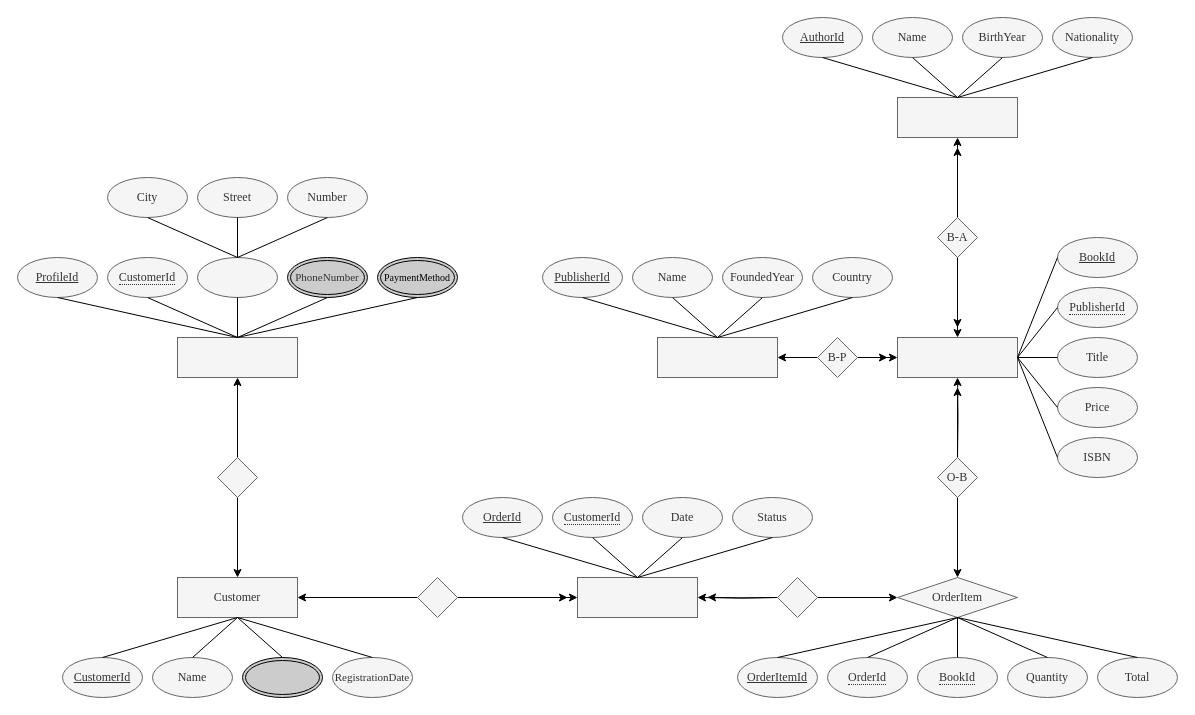
Some shapes in this 1195 by 715 pixel diagram are drawn without their labels. Here are the shapes that lost their labels. From the top down, the centre of each, then its label:
(x=957, y=117): Author
(x=237, y=277): Address
(x=237, y=357): Profile
(x=717, y=357): Publisher
(x=957, y=357): Book
(x=237, y=477): P-C
(x=437, y=597): C-O
(x=637, y=597): Order
(x=797, y=597): O-O
(x=282, y=677): Email
